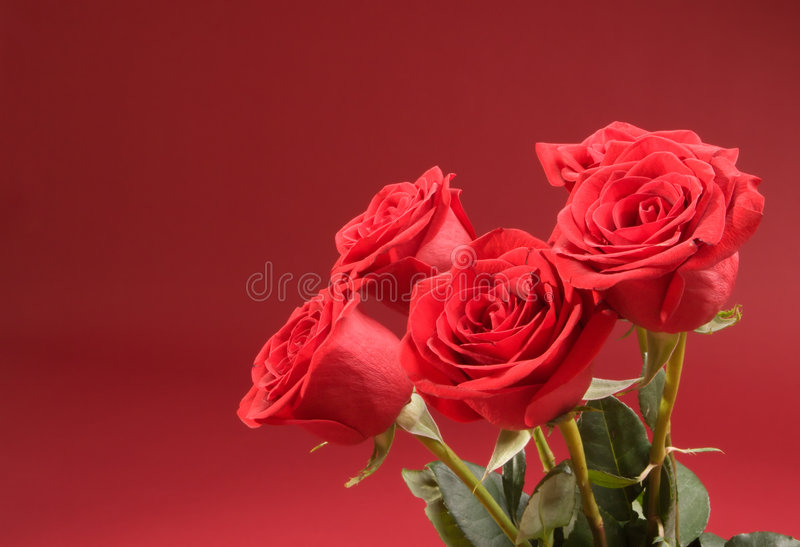RedRose: (374, 224, 621, 436), (536, 112, 759, 344), (226, 273, 414, 460), (325, 158, 481, 318)
